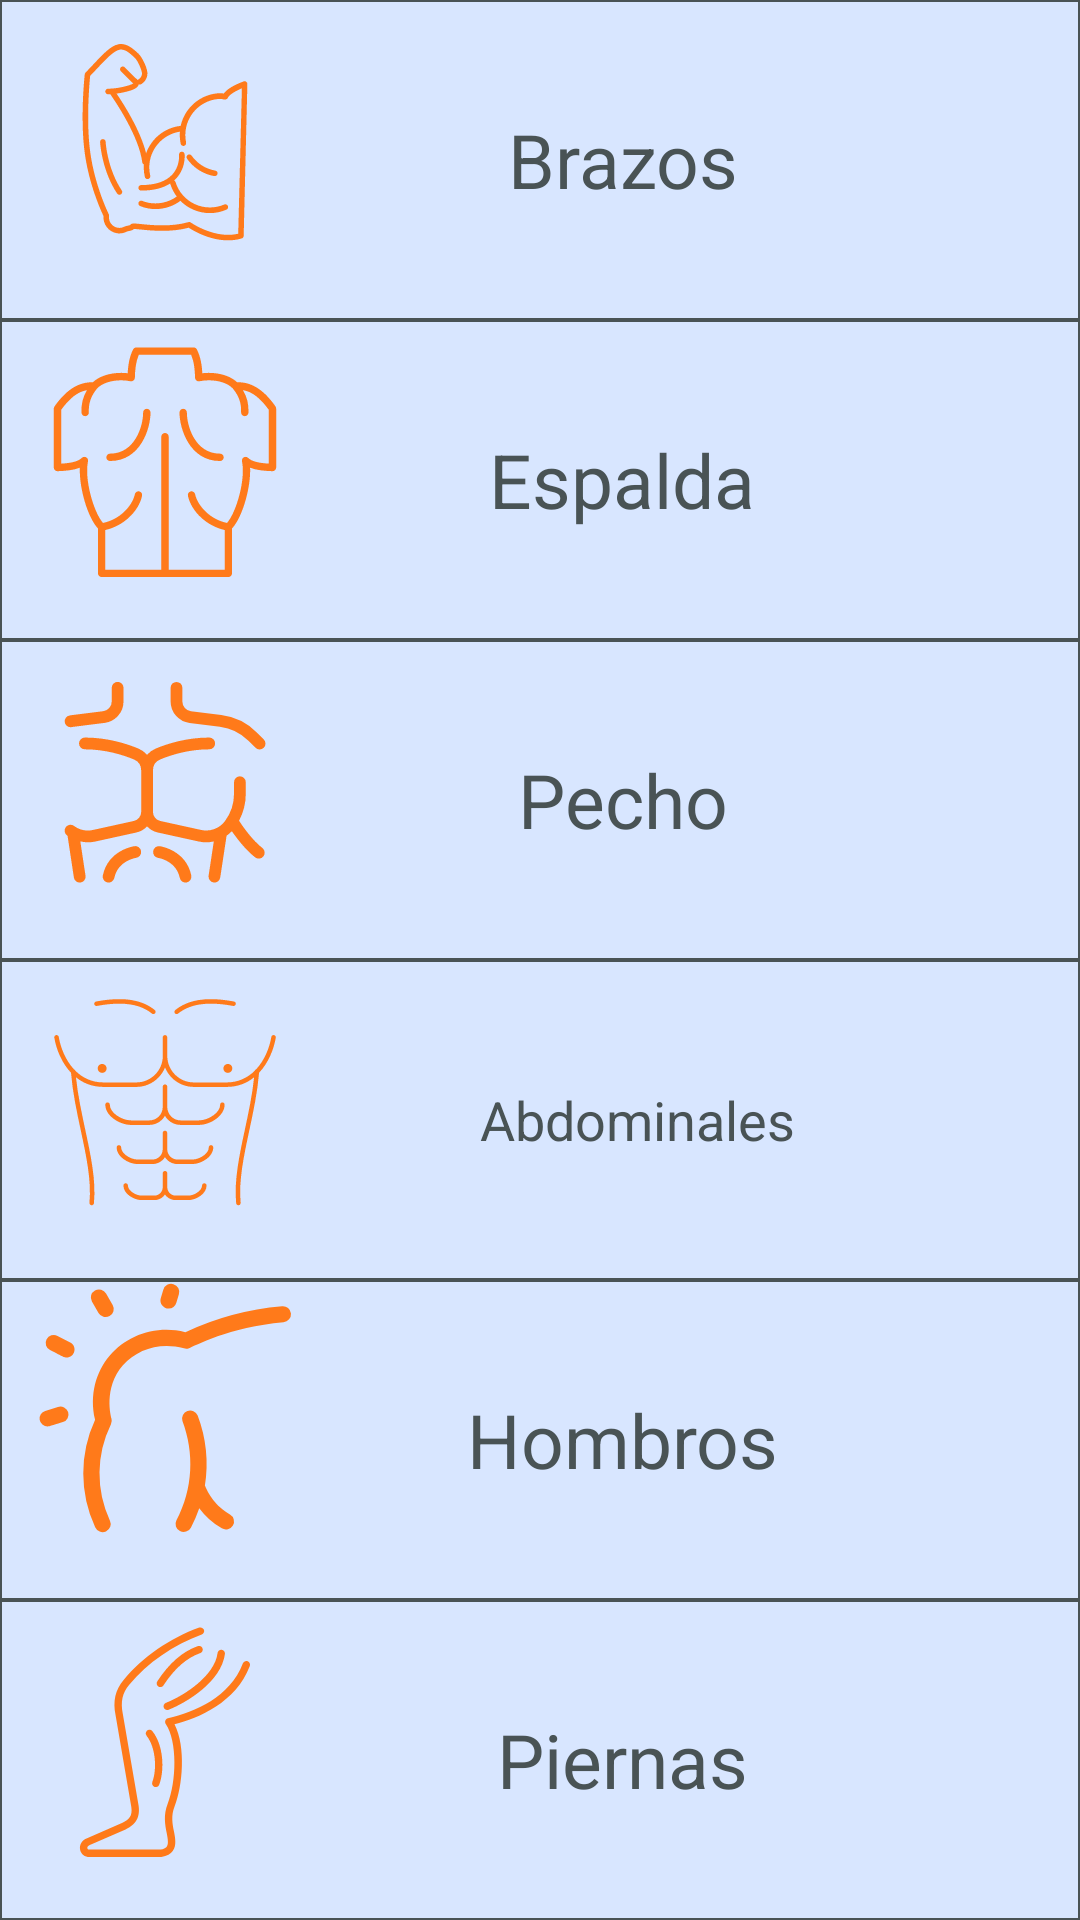

Named icons in this screenshot (1080*1920) and their centers, (x,y):
pectoral: (165,782)
